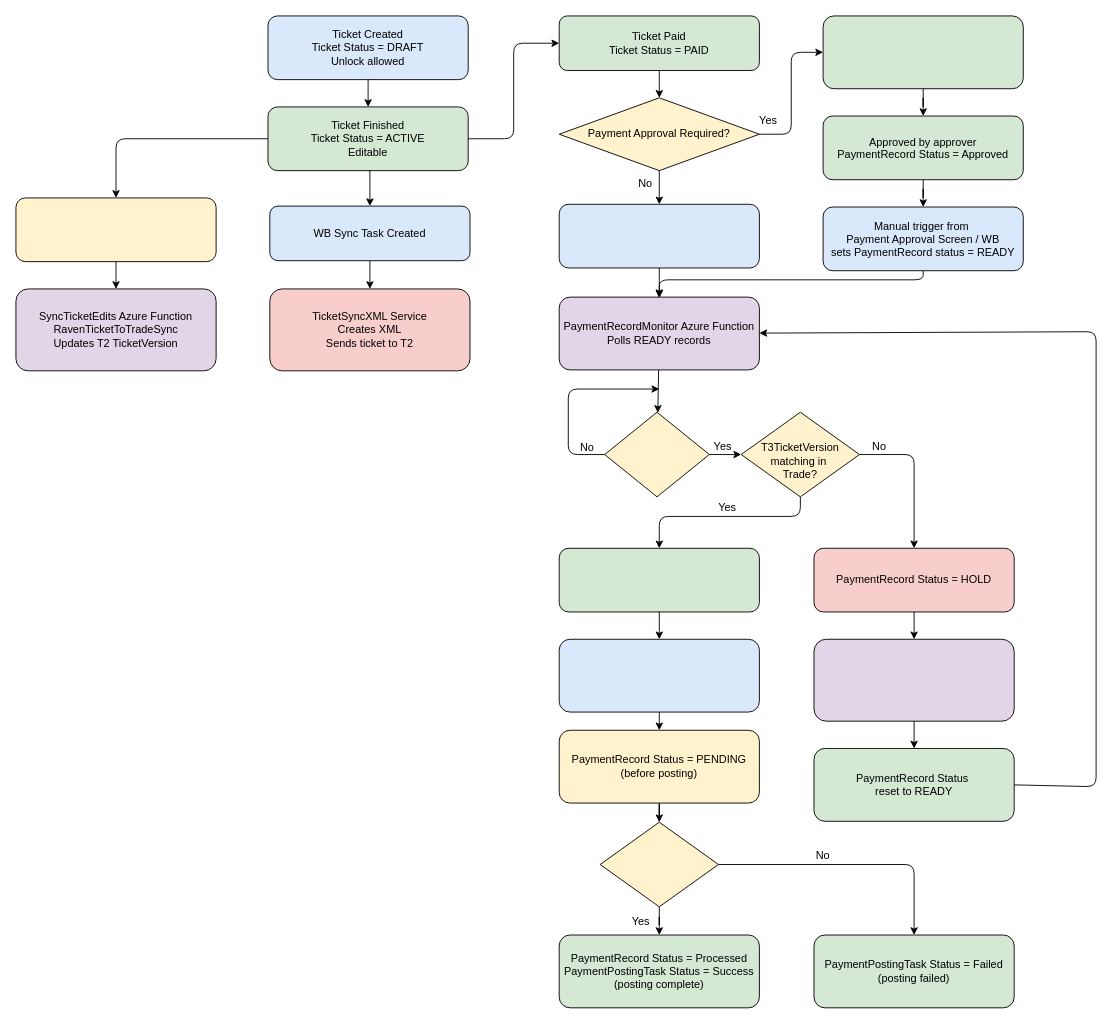
Image size: 1119x1024. Some labels were removed from this diagram. The centre of each missing label's shape, as x and y in pixels:
"Create PaymentPostingTask" goes at (x=658, y=579).
"Is Posting successful?" goes at (x=658, y=864).
"Payment Processor Processes Posting Task" goes at (x=658, y=675).
"Payment Record Created No Ticket Edits Allowed PaymentRecord Status = READY" goes at (x=658, y=235).
"PaymentRecord Status = AwaitingForApproval" goes at (x=922, y=52).
"PaymentRecordTicketSynchronizer Attempts resync" goes at (x=913, y=679).
"Ticket Edited T3TicketVersion++" goes at (x=115, y=229).
"Ticket exist in trade?" goes at (x=656, y=454).
